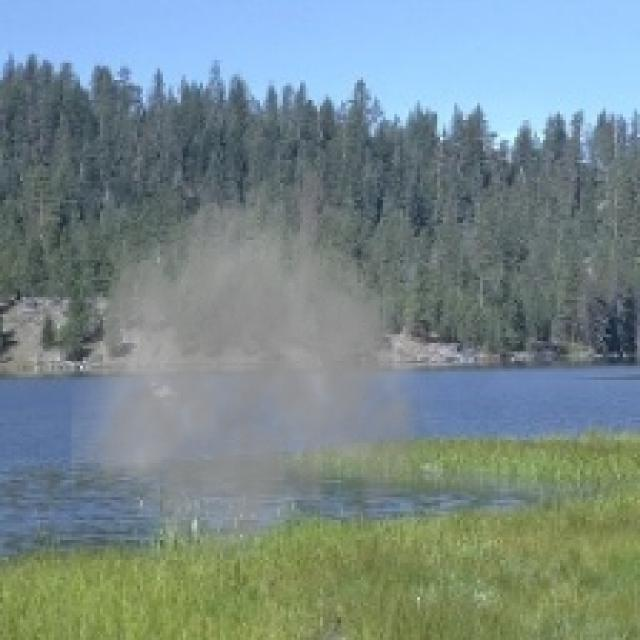Smoke: (72, 166, 454, 572)
